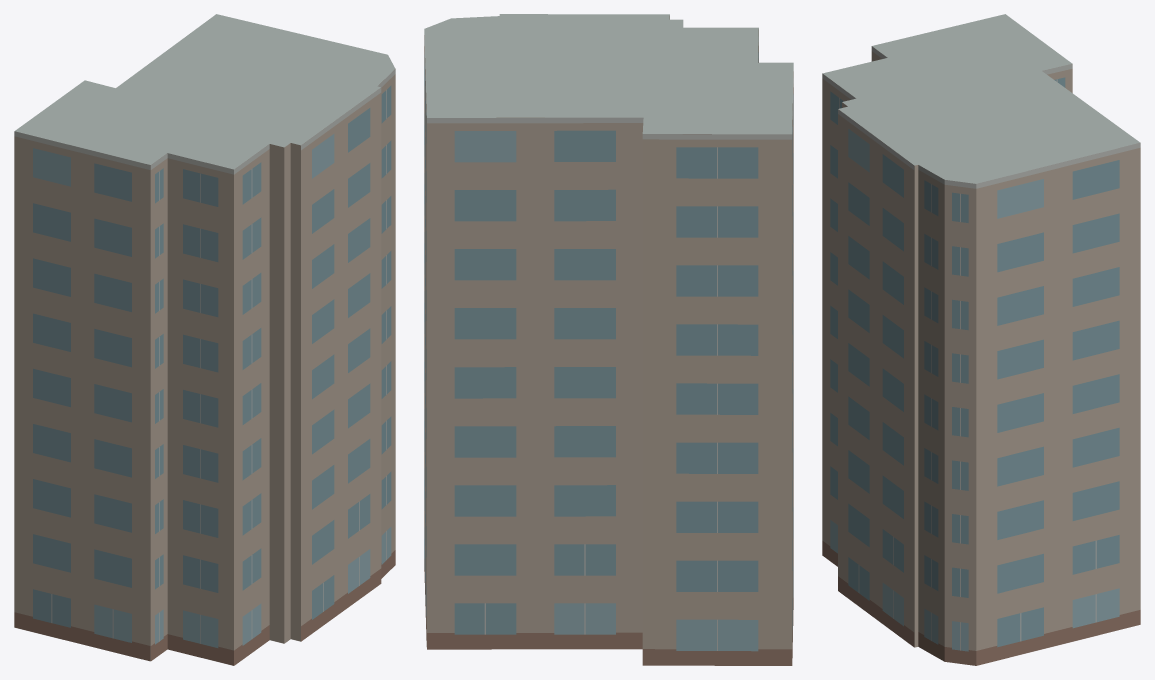
Rendered from survey-upis-32984090.glb.
3 renders of one model, left to right at view 1: azimuth 30°, elevation 25°; view 2: azimuth 150°, elevation 25°; view 3: azimuth 270°, elevation 25°, orthographic. The views are drawn at different scales.
Parts seen in each view (by area): view 1: survey-upis-32984090.tmp; view 2: survey-upis-32984090.tmp; view 3: survey-upis-32984090.tmp.
Boxes of the visible parts, bbox=[...] form: survey-upis-32984090.tmp: bbox=[14, 14, 395, 665]; survey-upis-32984090.tmp: bbox=[424, 14, 793, 665]; survey-upis-32984090.tmp: bbox=[822, 14, 1140, 665].
Bounding box in the file's own units: 17.93 × 23.7 × 14.19.
